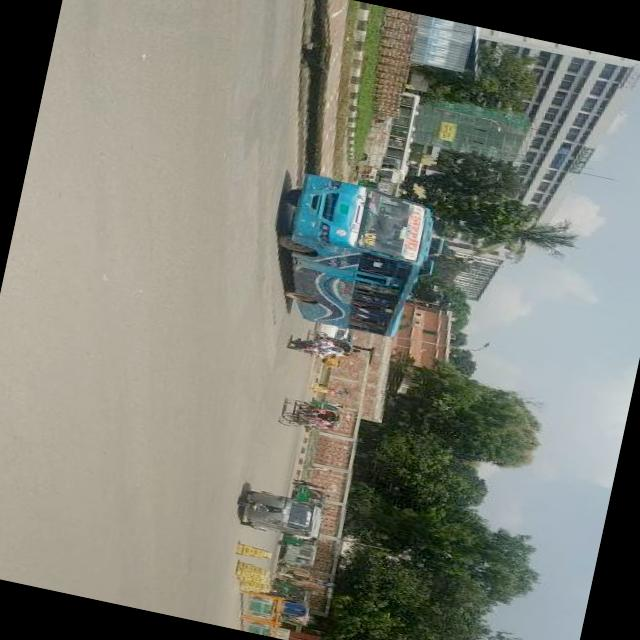bus: (264, 170, 452, 345), (352, 110, 417, 188)
motorcycle: (229, 483, 325, 542), (280, 398, 342, 436), (274, 540, 317, 573), (290, 482, 330, 504), (275, 578, 311, 600), (287, 334, 321, 355), (278, 596, 310, 618)
